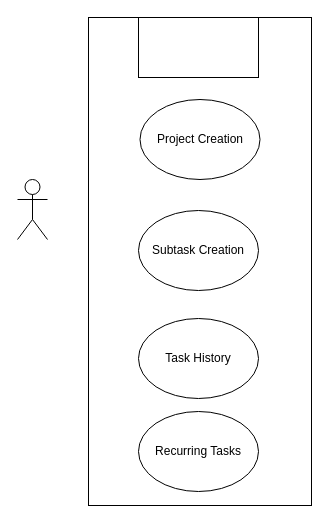
The diagram is 329 pixels wide and 523 high, and some of its shapes have lost their labels. Each missing label, with the box of its shape:
Actor: (16, 178, 48, 240)
System: (138, 16, 258, 78)
